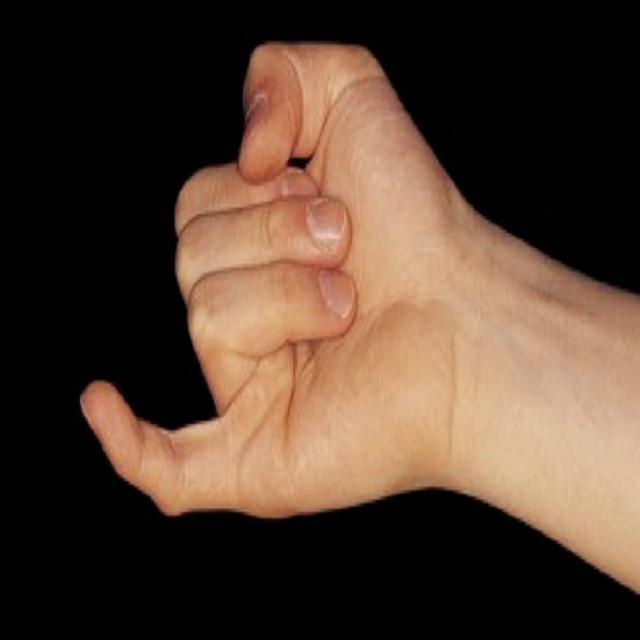pinky: (54, 361, 244, 528)
